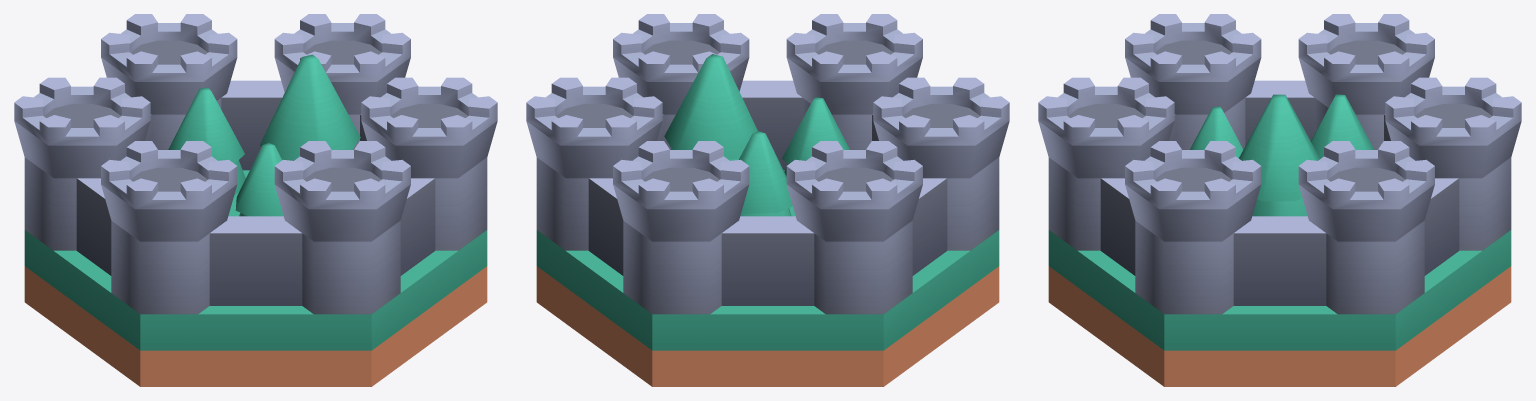
File: building-walls.fbx
The picture shows the model from 3 angles, left to right: view 1: azimuth 30°, elevation 25°; view 2: azimuth 150°, elevation 25°; view 3: azimuth 270°, elevation 25°; orthographic projection.
Visible parts, largest first — view 1: building_walls; view 2: building_walls; view 3: building_walls.
Part boxes in pixels (x1,y1,x2,y2): building_walls: (14, 14, 497, 386); building_walls: (526, 14, 1009, 386); building_walls: (1038, 14, 1521, 386).
Size of the model in its own units: 104 by 63.7 by 121.
Materials: 1 (1 with a texture image).
